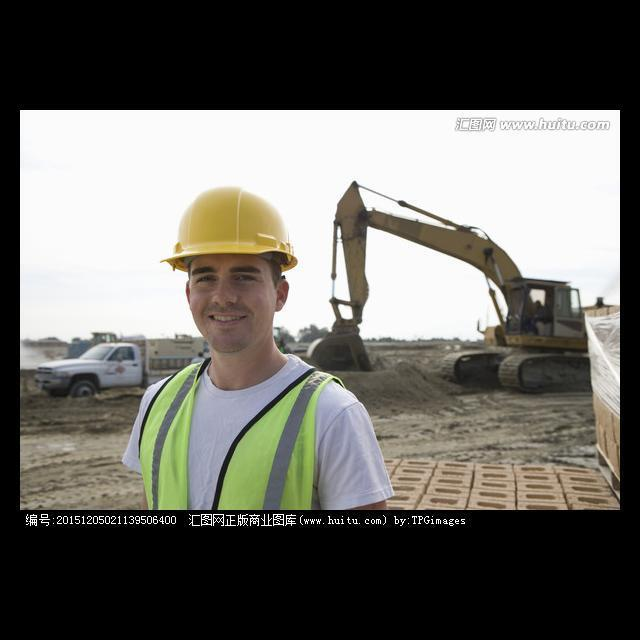helmet: (158, 180, 304, 280)
safety_vest: (111, 361, 355, 508)
